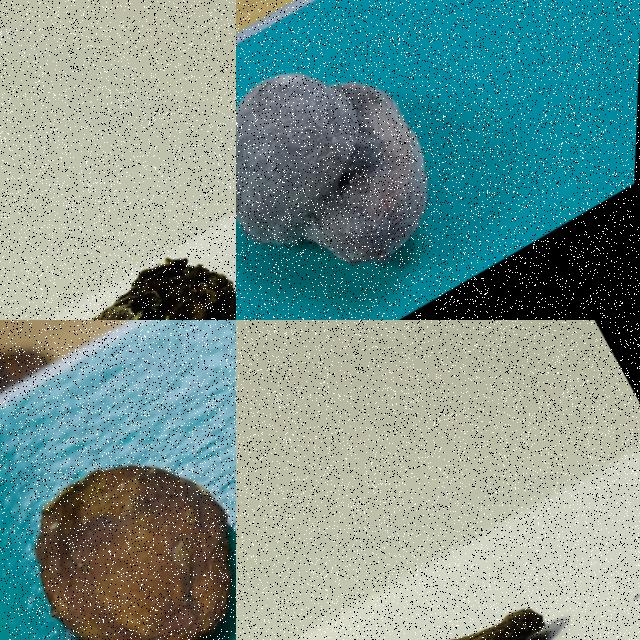Agglomerated_cocoabeans: (236, 0, 542, 319)
Flat_cocoabeans: (0, 379, 235, 639), (236, 524, 617, 639), (0, 162, 235, 319)
